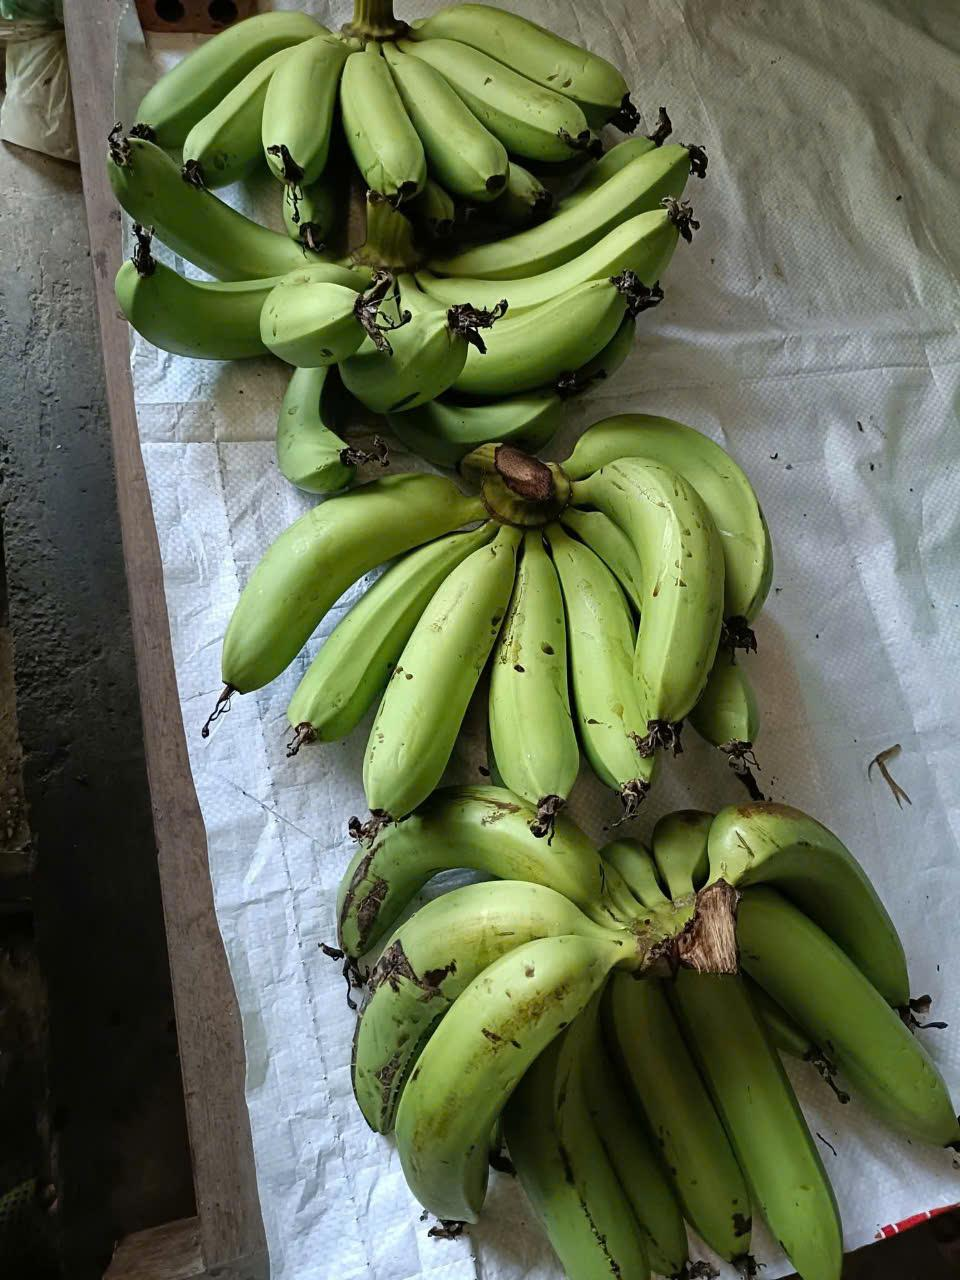banana: (74, 163, 732, 406), (653, 816, 960, 1279), (317, 816, 633, 1262), (97, 0, 684, 215), (253, 440, 533, 837), (536, 433, 797, 793)
